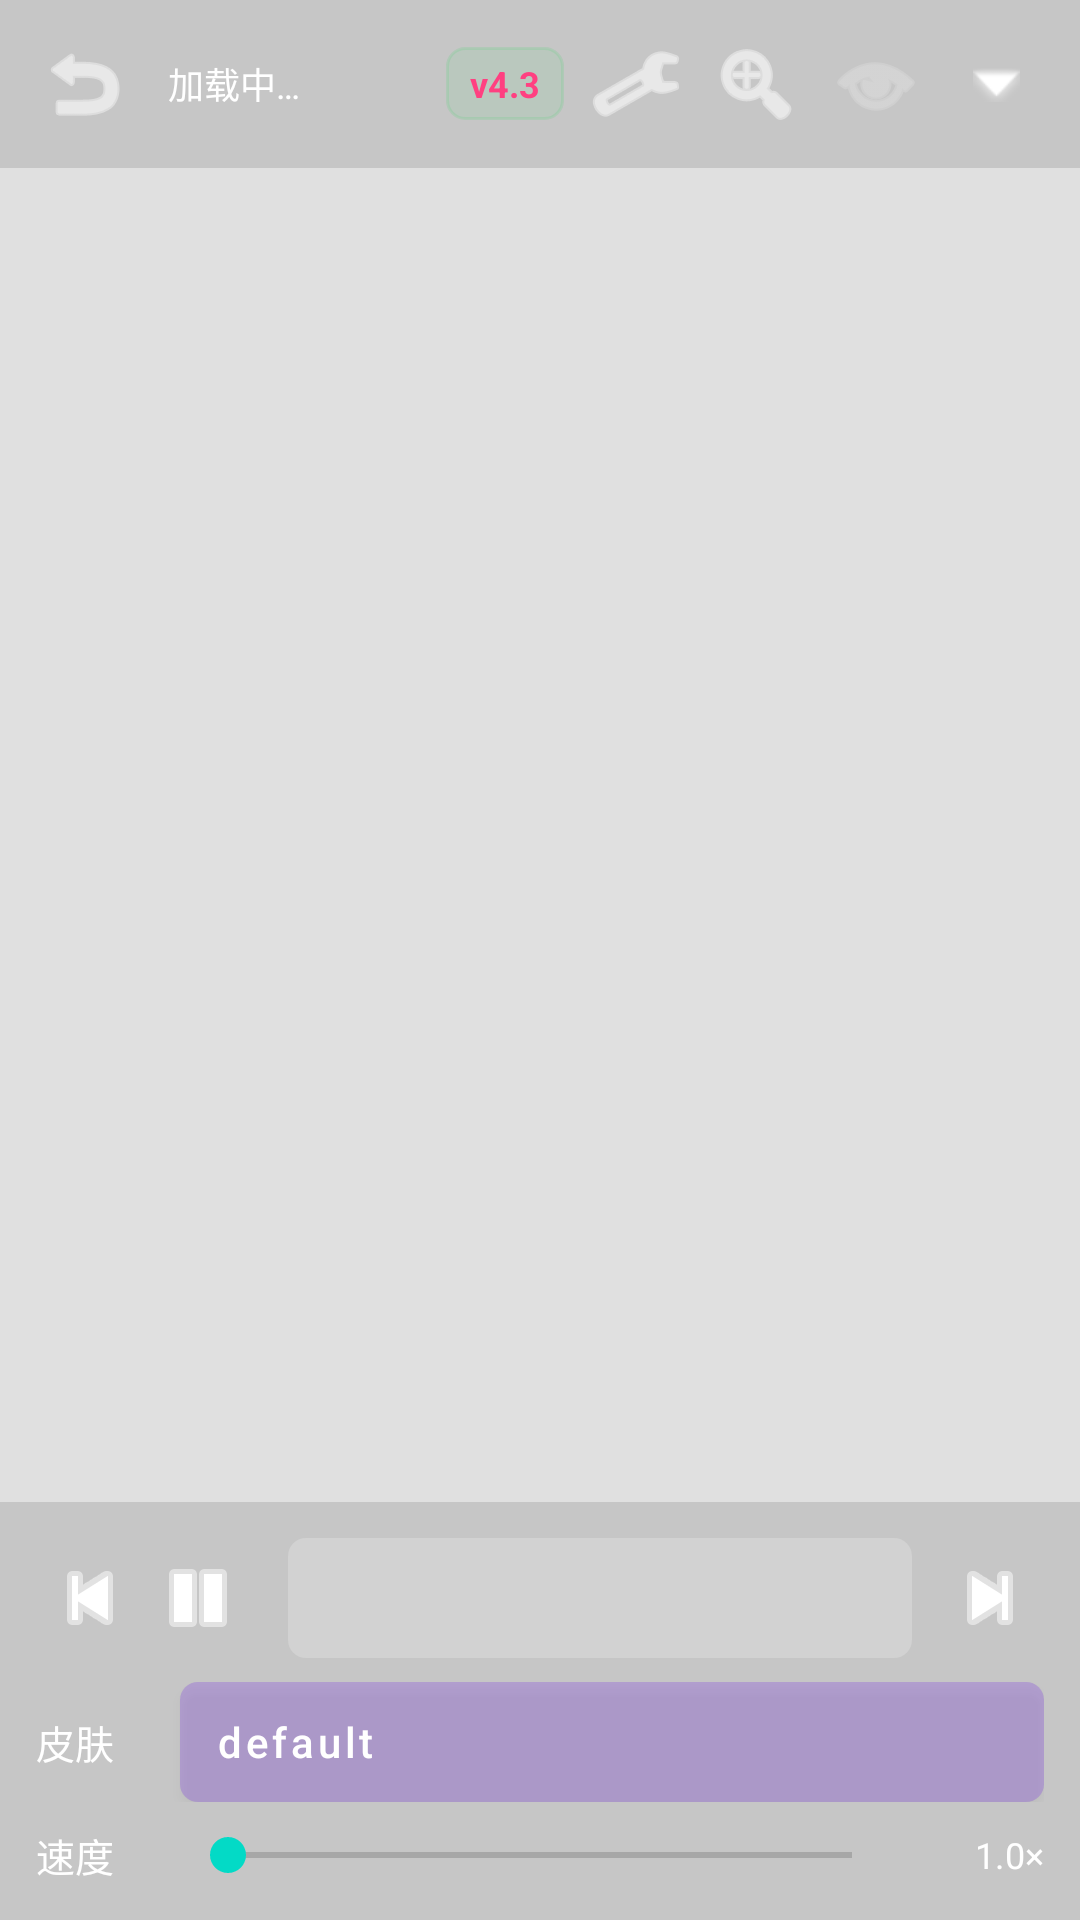

Named icons in this screenshot (1080px×1920px) and their centers, (x=x, y=y):
Back: (x=85, y=84)
Next animation: (x=990, y=1598)
Pause/Play: (x=198, y=1598)
Previous animation: (x=90, y=1598)
Toggle control panel: (x=996, y=84)
